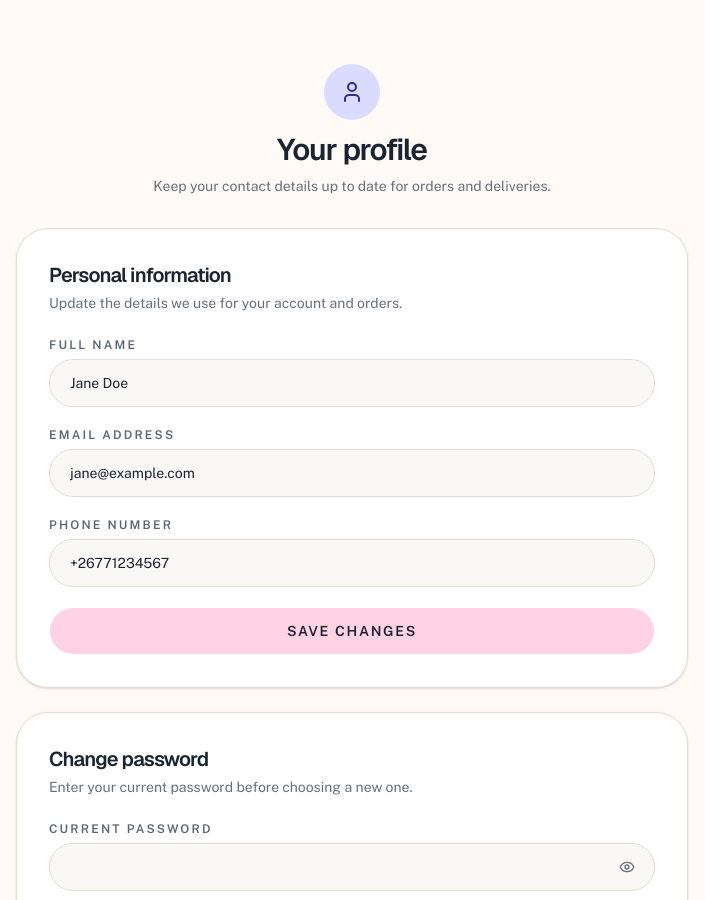
Test: Profile page › requires the new password confirmation to match
Type "oldpass123" into the password field labelled "Current password" at (352, 867), box [49,843,655,891]
(page scrolled)
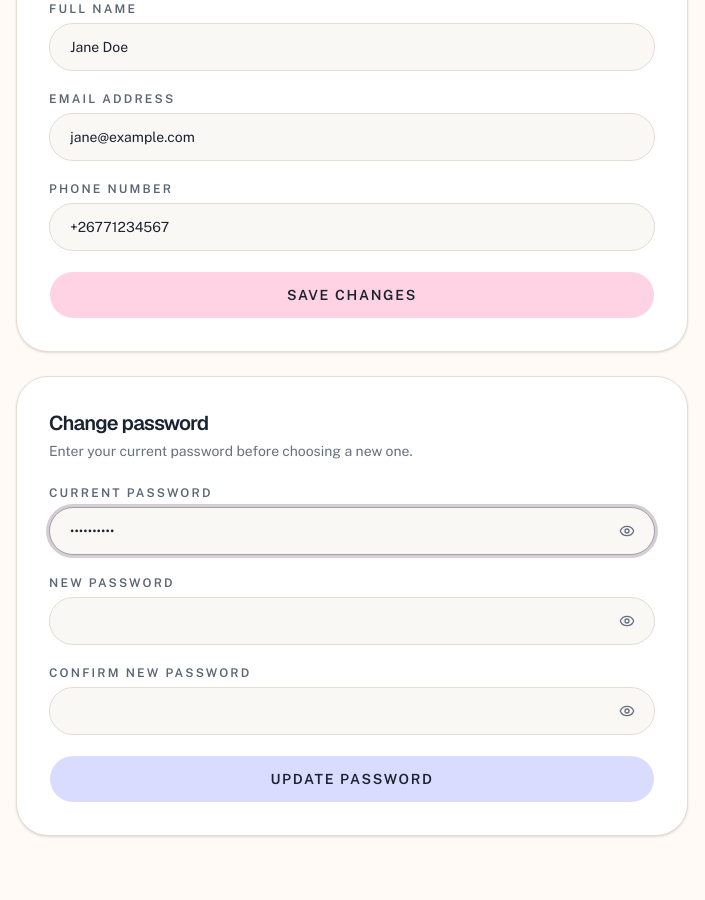
Type "newpass123" into the password field labelled "New password" at (352, 621), box [49,597,655,645]
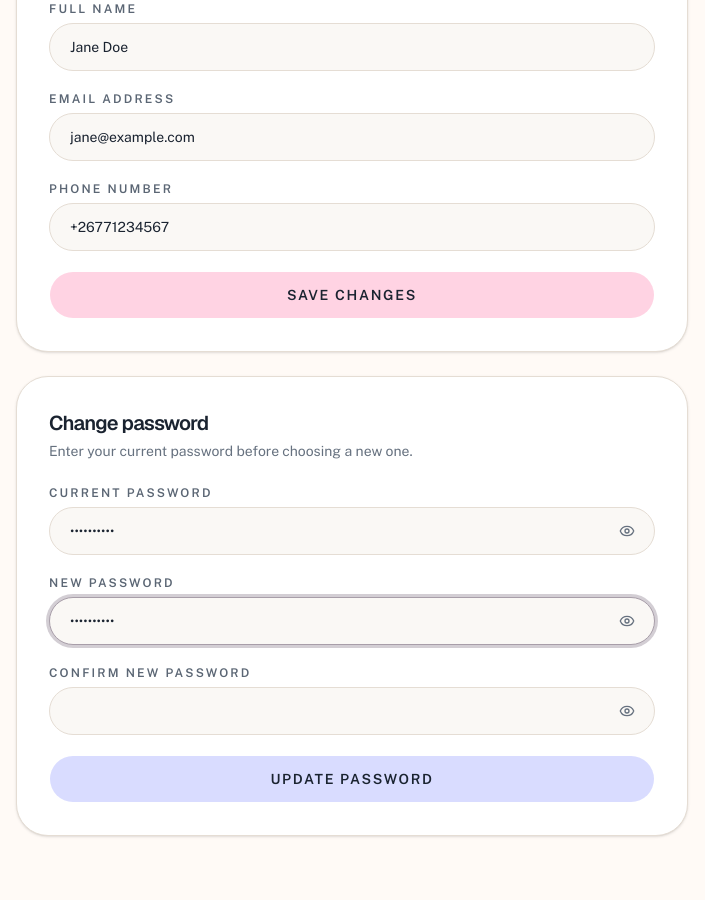
Type "different123" into the password field labelled "Confirm new password" at (352, 711), box [49,687,655,735]
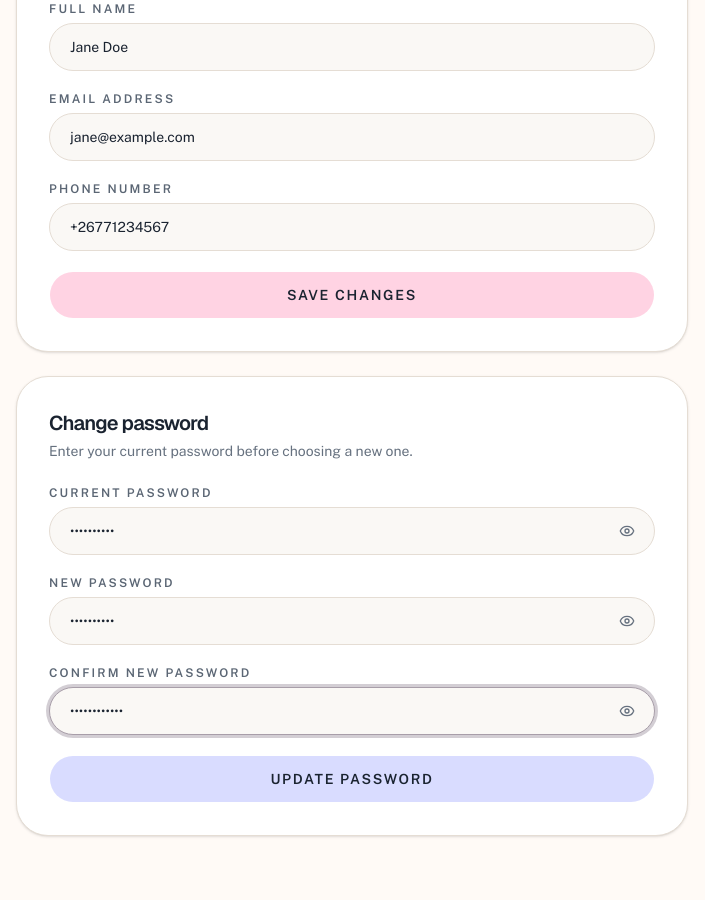
Click the button "Update password" at (352, 779), box [49,755,655,803]
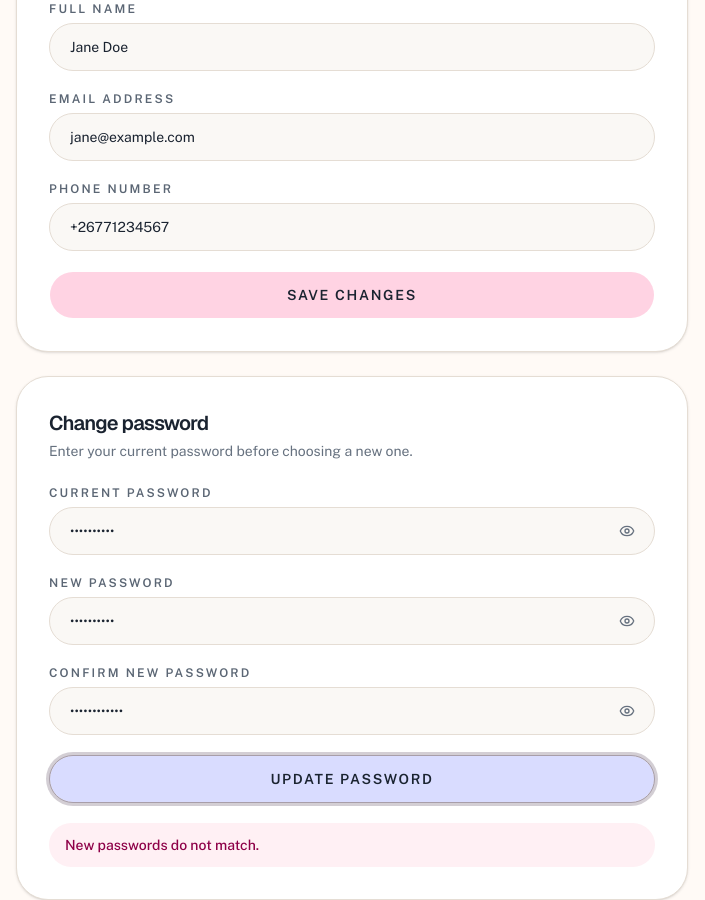
Check: the message reads "New passwords do not match.", box [65,837,259,853]
